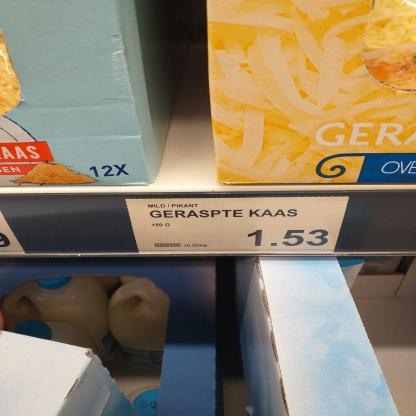prtg: (126, 197, 351, 255)
